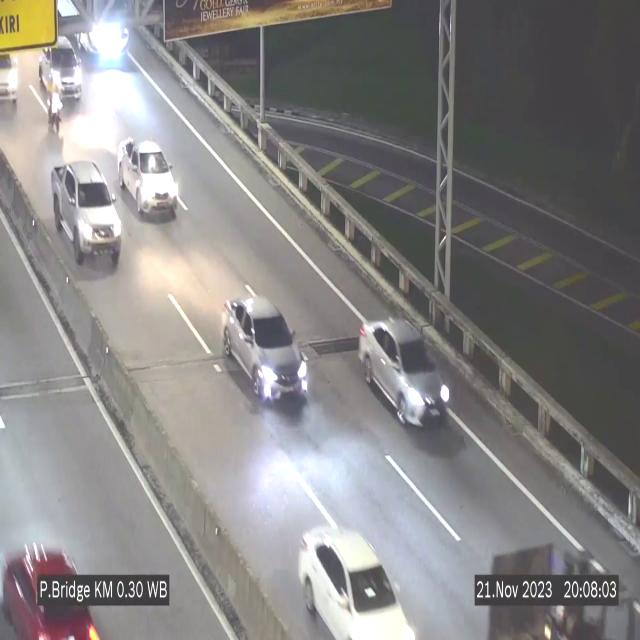Car: (290, 514, 407, 640), (0, 526, 114, 640), (358, 320, 452, 426), (222, 298, 308, 408), (51, 160, 121, 266), (119, 139, 178, 217), (36, 34, 84, 106), (0, 36, 20, 116)
Motorcycle: (44, 78, 66, 142)
